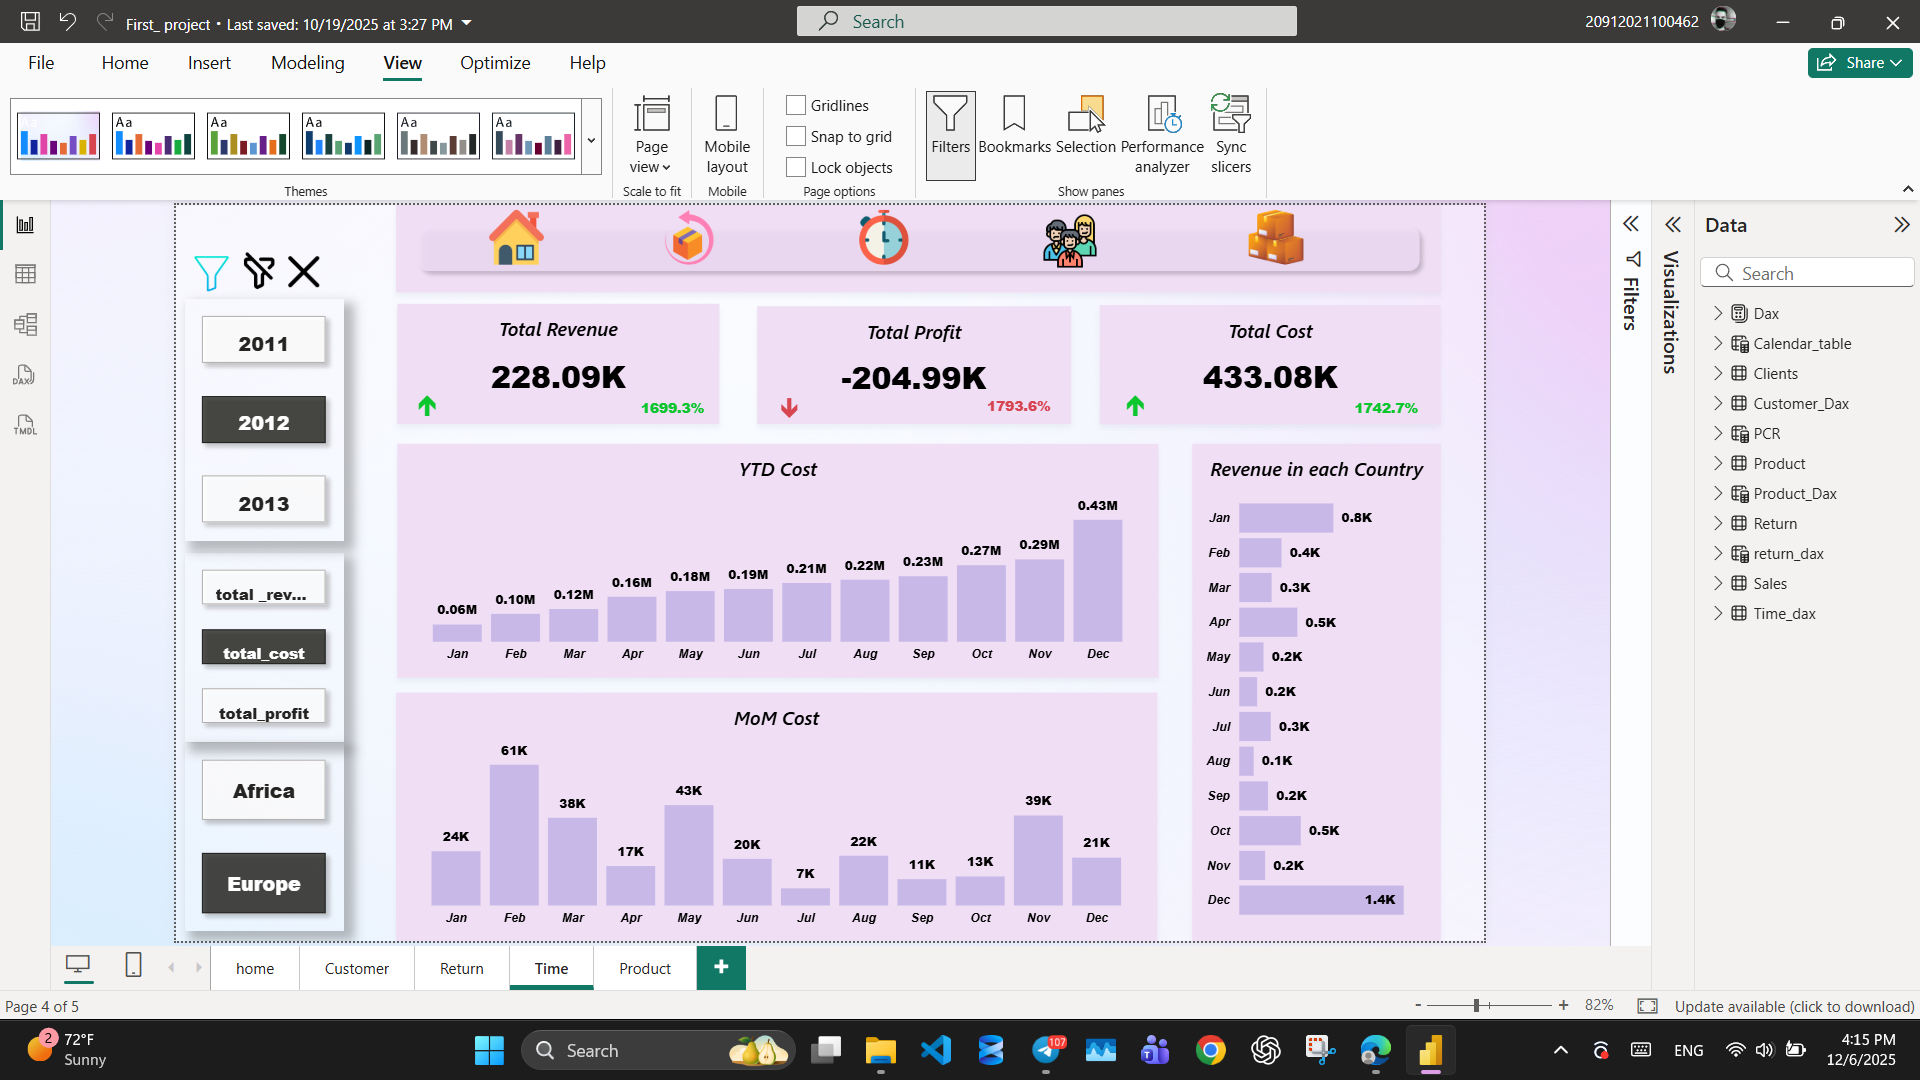

This screenshot's page, from the dashboard's own definition file:
{"tool":"powerbi","page":{"name":"Time","canvas":[1280,720],"ordinal":3},"visuals":[{"type":"advancedSlicerVisual","fields":{"Values":["Calendar_table.year"]},"box":[8.6,92.1,155.9,236.9],"z":0},{"type":"advancedSlicerVisual","fields":{"Values":["Clients.Continent"]},"box":[8.6,525.4,155.9,184.1],"z":1000},{"type":"shape","box":[215.2,0,1022.3,85.6],"z":2000},{"type":"image","box":[95.4,45.2,58.7,40.4],"z":3000},{"type":"image","box":[50.1,41.6,62.4,50.1],"z":4000},{"type":"image","box":[0,45.2,69.7,44],"z":5000},{"type":"image","box":[275.6,0,116.7,63.3],"z":6000},{"type":"image","box":[802.2,3.7,145.5,63.6],"z":7000},{"type":"image","box":[624.4,0,135.3,63.3],"z":8000},{"type":"image","box":[440.2,0,124.7,63.6],"z":9000},{"type":"image","box":[1015.4,0,122.9,63.3],"z":10000},{"type":"card","title":"Total Revenue","fields":{"Values":["Dax.total _revenue"]},"box":[216,97,315.5,117.8],"z":11000},{"type":"card","title":"Total Revenue","fields":{"Values":["Dax.Show_Variance_revenue"]},"box":[440.7,175.5,90.8,50.3],"z":12000},{"type":"card","title":"Total Revenue","fields":{"Values":["Dax.Arrow_revenue"]},"box":[214,165.1,63.6,63.6],"z":13000},{"type":"card","title":"Total Profit","fields":{"Values":["Dax.total_profit"]},"box":[568.3,99.4,306.9,115.4],"z":14000},{"type":"card","title":"Total Revenue","fields":{"Values":["Dax.Show_Variance_profit"]},"box":[779.4,173.1,90.8,50.3],"z":15000},{"type":"card","title":"Total Revenue","fields":{"Values":["Dax.Arrow_profit"]},"box":[568.3,166.9,62.6,63.8],"z":16000},{"type":"card","title":"Total Cost","fields":{"Values":["Dax.total_cost"]},"box":[903.4,98.2,333.9,116.6],"z":17000},{"type":"card","title":"Total Revenue","fields":{"Values":["Dax.Show_Variance_cost"]},"box":[1137.9,175.5,90.8,50.3],"z":18000},{"type":"card","title":"Total Revenue","fields":{"Values":["Dax.Arrow_cost"]},"box":[903.4,171.8,70,50.3],"z":19000},{"type":"clusteredColumnChart","fields":{"Y":["Time_dax.YTD"],"Category":["Calendar_table.month_name"]},"box":[216.4,233.6,744.7,228.7],"z":20000},{"type":"clusteredBarChart","title":"Revenue in each Country","fields":{"Category":["Calendar_table.month_name"],"Y":["Dax.total_qty"]},"box":[994.2,233.6,243.3,486.7],"z":21000},{"type":"advancedSlicerVisual","fields":{"Values":["PCR.PCR"]},"box":[8.6,340,155.9,185.3],"z":22000},{"type":"clusteredColumnChart","fields":{"Category":["Calendar_table.month_name"],"Y":["Time_dax.Month over Month"]},"box":[215.2,476.9,744.7,243.3],"z":23000}]}

Visuals, with their boxes on the page's 1280x720 design canvas (x1, y1, x2, y2). These are canvas units, not pixel positions in the 1920x1080 screenshot, which may show the page scaled, cropped or inside an application window:
advancedSlicerVisual - Calendar_table.year: BBox(9, 92, 164, 329)
advancedSlicerVisual - Clients.Continent: BBox(9, 525, 164, 710)
shape: BBox(215, 0, 1238, 86)
image: BBox(95, 45, 154, 86)
image: BBox(50, 42, 112, 92)
image: BBox(0, 45, 70, 89)
image: BBox(276, 0, 392, 63)
image: BBox(802, 4, 948, 67)
image: BBox(624, 0, 760, 63)
image: BBox(440, 0, 565, 64)
image: BBox(1015, 0, 1138, 63)
"Total Revenue" card: BBox(216, 97, 532, 215)
"Total Revenue" card: BBox(441, 176, 532, 226)
"Total Revenue" card: BBox(214, 165, 278, 229)
"Total Profit" card: BBox(568, 99, 875, 215)
"Total Revenue" card: BBox(779, 173, 870, 223)
"Total Revenue" card: BBox(568, 167, 631, 231)
"Total Cost" card: BBox(903, 98, 1237, 215)
"Total Revenue" card: BBox(1138, 176, 1229, 226)
"Total Revenue" card: BBox(903, 172, 973, 222)
clusteredColumnChart - Time_dax.YTD x Calendar_table.month_name: BBox(216, 234, 961, 462)
"Revenue in each Country" clusteredBarChart: BBox(994, 234, 1238, 720)
advancedSlicerVisual - PCR.PCR: BBox(9, 340, 164, 525)
clusteredColumnChart - Calendar_table.month_name x Time_dax.Month over Month: BBox(215, 477, 960, 720)
